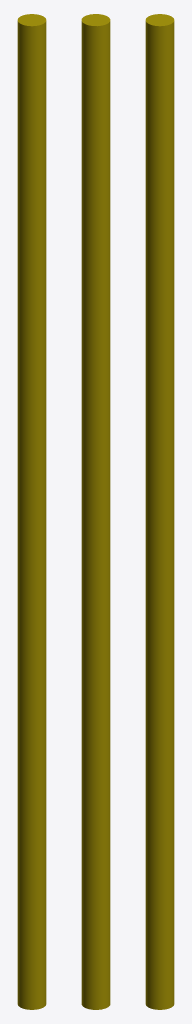
The model's file is foundation_base_monopile_GEO.fbx.
3 views of the same model, side by side, from view 1: azimuth 90°, elevation 25°; view 2: azimuth 150°, elevation 25°; view 3: azimuth 270°, elevation 25° (orthographic).
Visible parts, largest first — view 1: base_monopile_GEO_002; view 2: base_monopile_GEO_002; view 3: base_monopile_GEO_002.
Boxes of the visible parts, <box> form: base_monopile_GEO_002: <box>17,14,46,1009</box>; base_monopile_GEO_002: <box>81,14,110,1009</box>; base_monopile_GEO_002: <box>145,14,174,1009</box>.
Size of the model in its own units: 631 by 23618 by 630.
